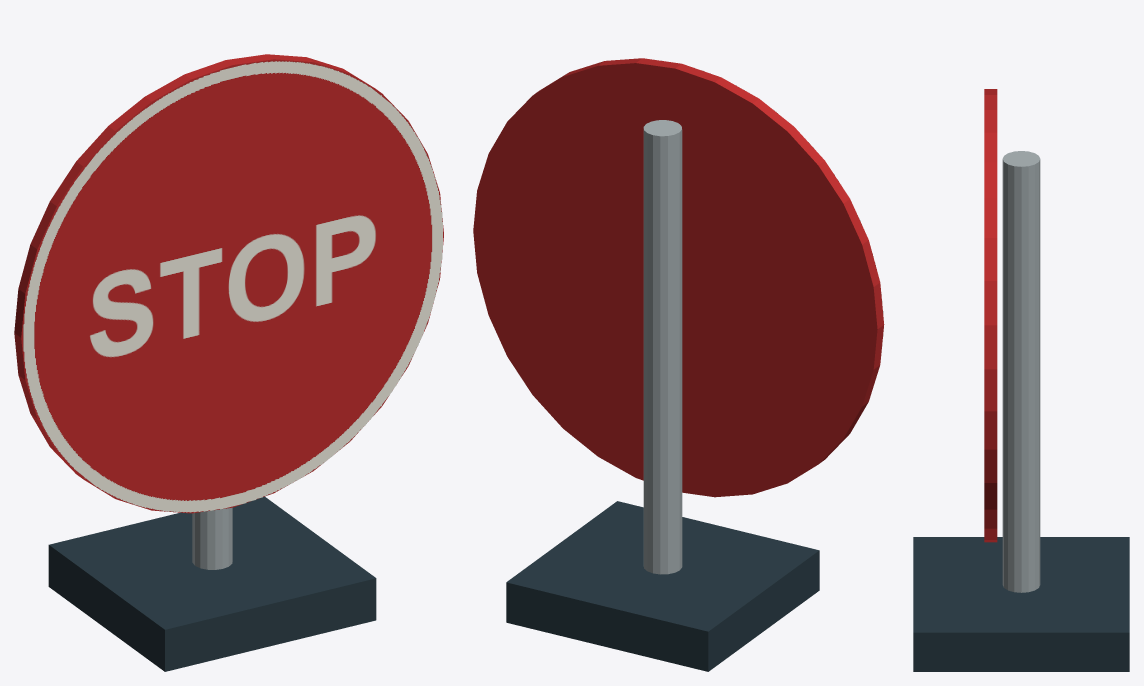
The model's file is scendance-plan-lollypop-crossing.glb.
The picture shows the model from 3 angles, left to right: view 1: azimuth 30°, elevation 25°; view 2: azimuth 150°, elevation 25°; view 3: azimuth 270°, elevation 25°; orthographic projection. The views are drawn at different scales.
Bounding box in the file's own units: 0.84 × 1.05 × 0.4.
4 materials, 1 textured.
